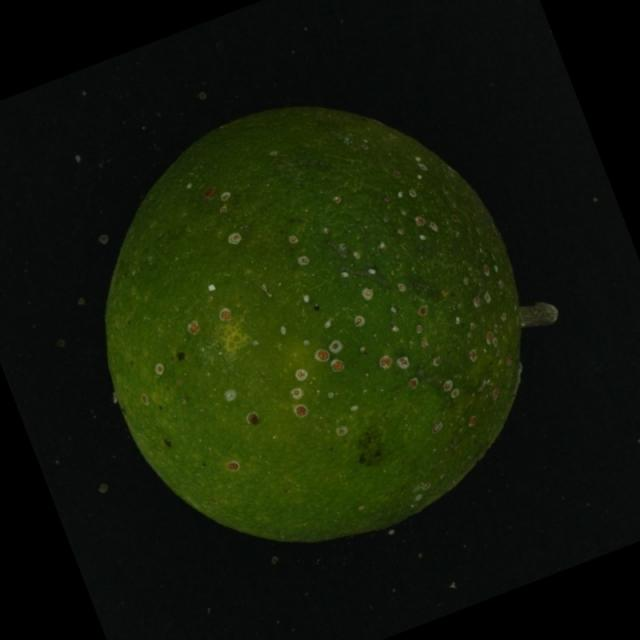grenning: (78, 88, 567, 562)
